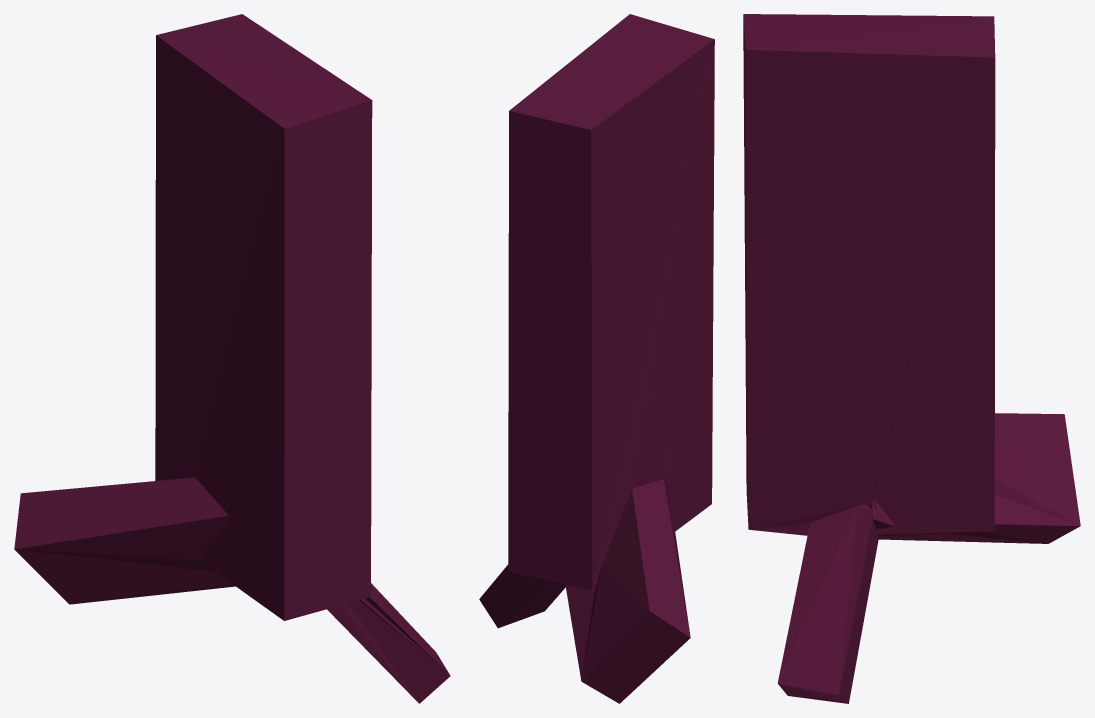
The picture shows the model from 3 angles, left to right: view 1: azimuth 30°, elevation 25°; view 2: azimuth 150°, elevation 25°; view 3: azimuth 270°, elevation 25°; orthographic projection. The views are drawn at different scales.
Parts seen in each view (by area): view 1: 131_Cube.543; view 2: 131_Cube.543; view 3: 131_Cube.543.
Boxes of the visible parts, <box> form: 131_Cube.543: <box>14,14,450,703</box>; 131_Cube.543: <box>479,14,714,703</box>; 131_Cube.543: <box>743,14,1080,703</box>.
Bounding box in the file's own units: 8.19 × 15.4 × 7.68.
